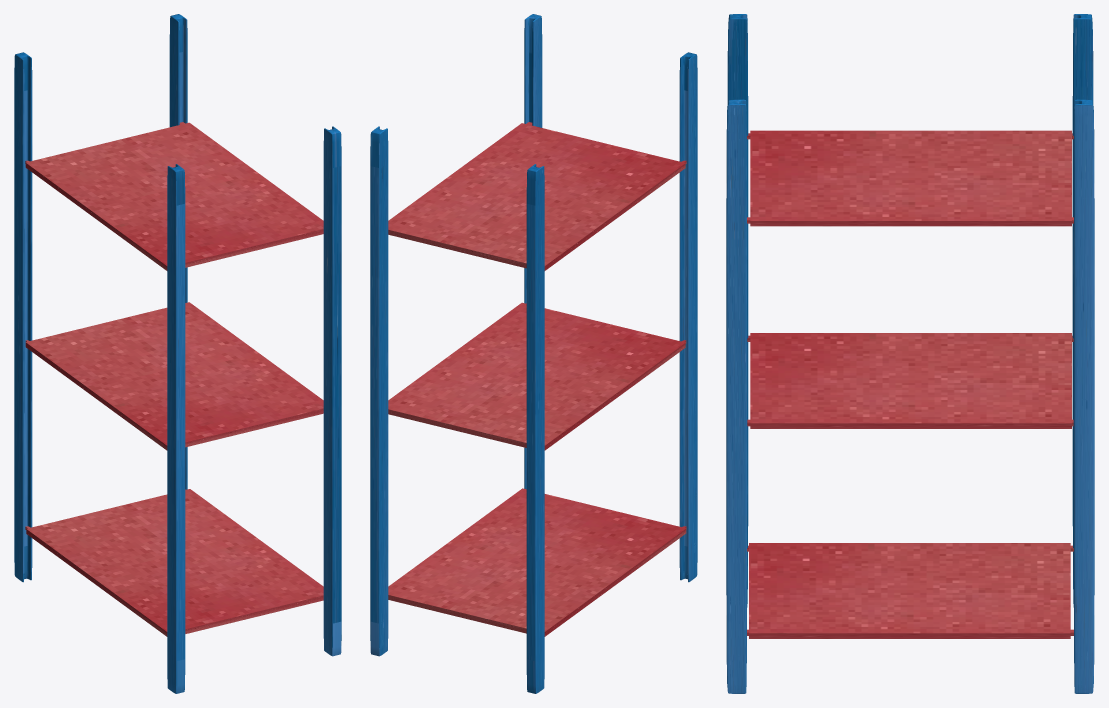
Rendered from ShelvesTripleLayer.fbx.
3 renders of one model, left to right at view 1: azimuth 30°, elevation 25°; view 2: azimuth 150°, elevation 25°; view 3: azimuth 270°, elevation 25°, orthographic. The views are drawn at different scales.
Visible parts, largest first — view 1: pasted__pCube7, pasted__pCube6, pasted__pCube5, pCube1, pCube7, pCube8, pCube9; view 2: pasted__pCube7, pasted__pCube5, pasted__pCube6, pCube9, pCube8, pCube7, pCube1; view 3: pasted__pCube7, pasted__pCube6, pasted__pCube5, pCube1, pCube9, pCube8, pCube7.
Boxes of the visible parts, x1=… form: pasted__pCube7: x1=25, y1=122, x2=323, y2=270; pasted__pCube6: x1=25, y1=302, x2=323, y2=450; pasted__pCube5: x1=25, y1=489, x2=323, y2=636; pCube1: x1=323, y1=126, x2=341, y2=656; pCube7: x1=167, y1=164, x2=185, y2=693; pCube8: x1=14, y1=52, x2=32, y2=582; pCube9: x1=169, y1=14, x2=187, y2=489; pasted__pCube7: x1=388, y1=122, x2=686, y2=270; pasted__pCube5: x1=388, y1=488, x2=686, y2=636; pasted__pCube6: x1=388, y1=302, x2=686, y2=450; pCube9: x1=370, y1=126, x2=388, y2=656; pCube8: x1=526, y1=164, x2=544, y2=693; pCube7: x1=679, y1=52, x2=697, y2=582; pCube1: x1=524, y1=14, x2=542, y2=489; pasted__pCube7: x1=747, y1=130, x2=1073, y2=226; pasted__pCube6: x1=747, y1=333, x2=1073, y2=428; pasted__pCube5: x1=747, y1=543, x2=1073, y2=638; pCube1: x1=726, y1=99, x2=747, y2=693; pCube9: x1=1073, y1=99, x2=1094, y2=693; pCube8: x1=1072, y1=14, x2=1093, y2=607; pCube7: x1=727, y1=14, x2=748, y2=607.
Bounding box in the file's own units: 6.09 × 18.28 × 10.34.
2 materials, 2 textured.
